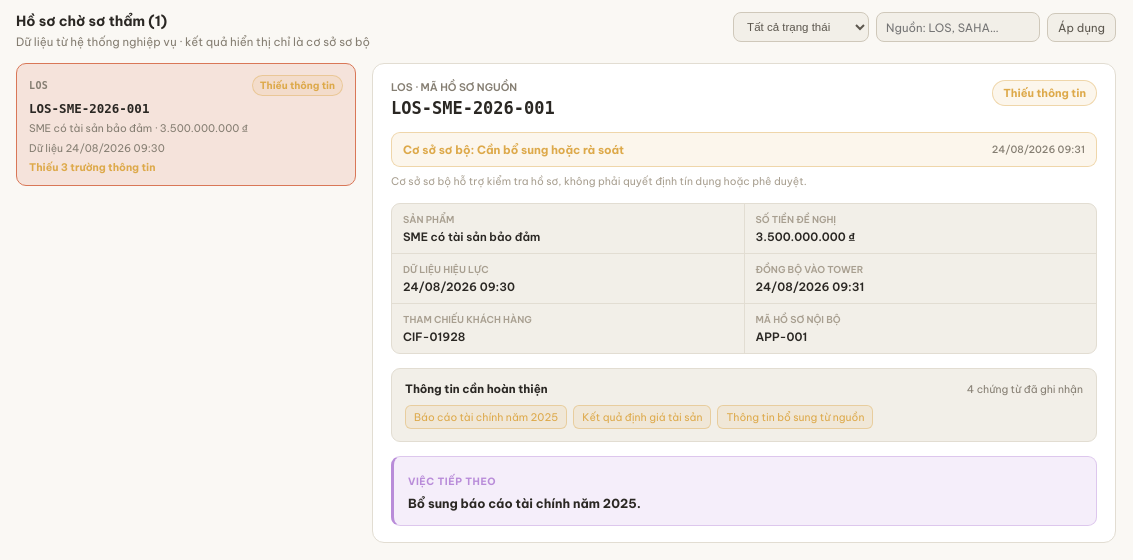
CaseWorkbench contract coverage › response cũ không ghi đè kết quả của lần tải mới hơn
Expected: the button with test id "case-row-case-missing" is shown, top-left (16, 63), bottom-right (356, 186)
Select "Thiếu thông tin" in the dropdown named "Lọc theo trạng thái hồ sơ" at (801,27), box top-left (733, 12), bottom-right (869, 42)
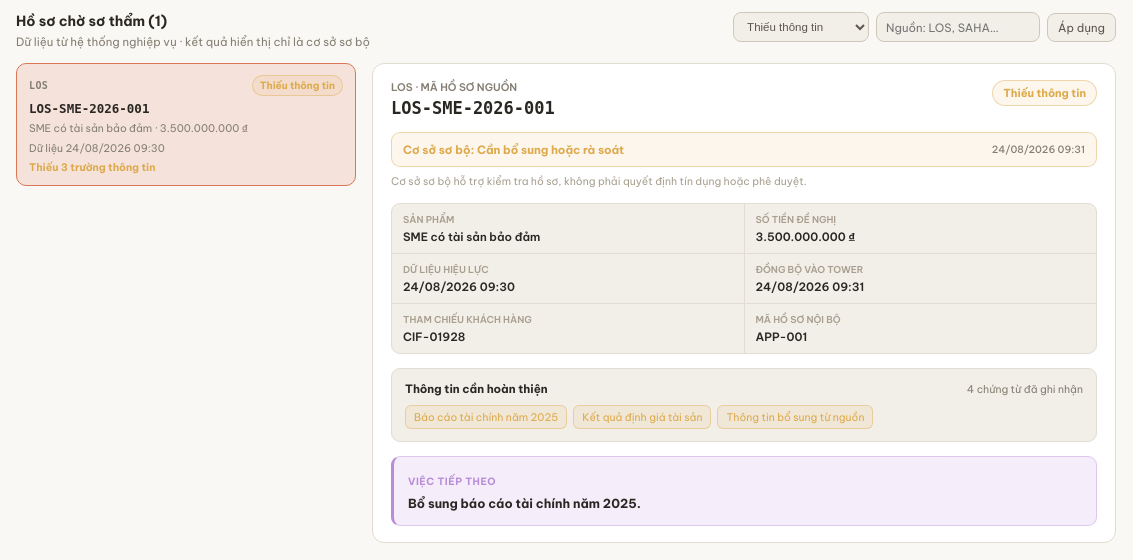
Click the button "Áp dụng".
click(1082, 27)  # box top-left (1047, 12), bottom-right (1116, 42)
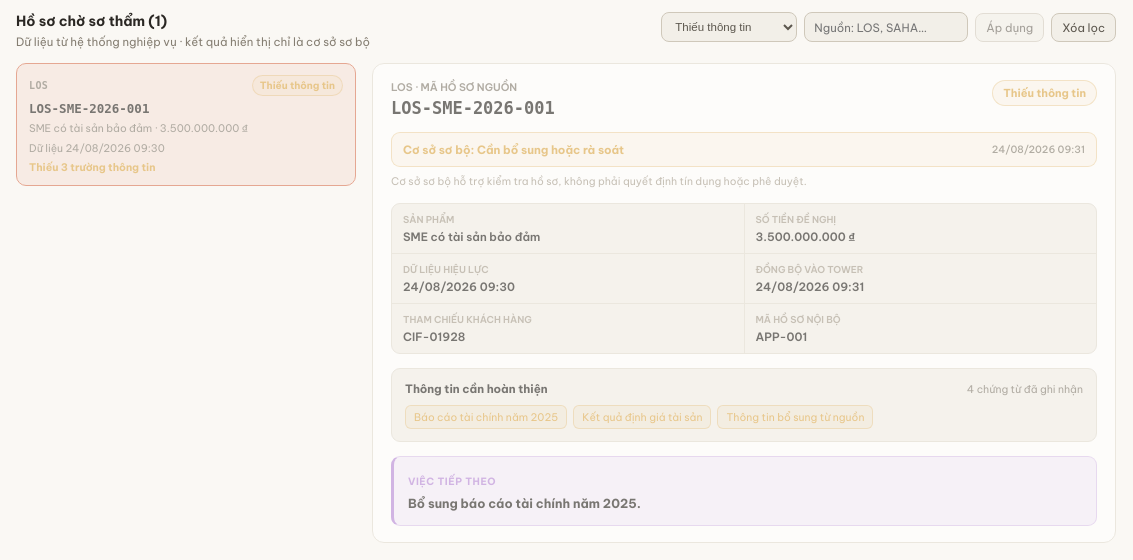
Click the button "Xóa lọc".
click(1084, 27)  # box top-left (1051, 12), bottom-right (1116, 42)
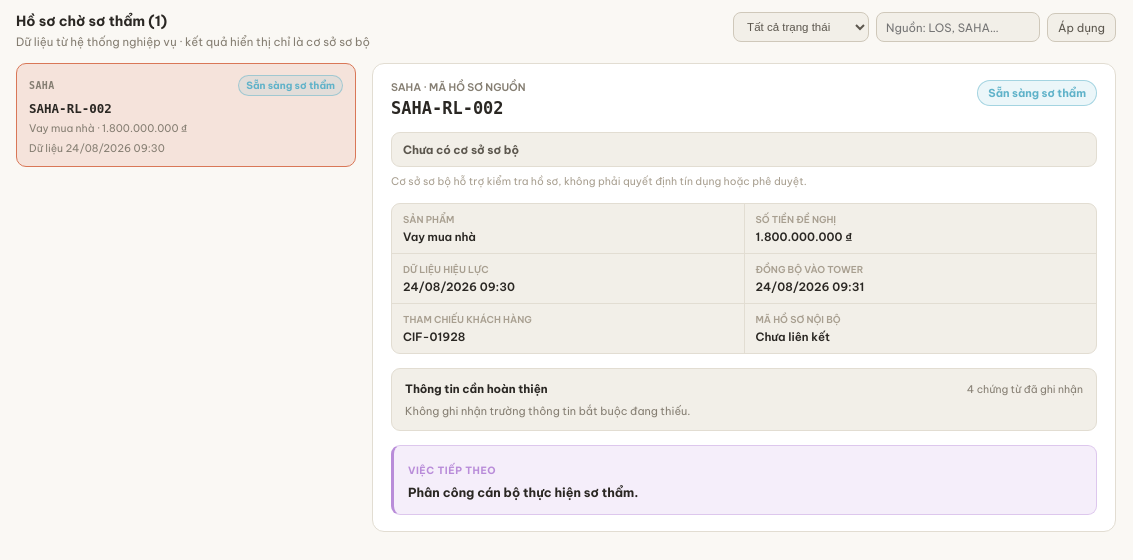
Now the button with test id "case-row-case-missing" is gone
Now the button with test id "case-row-case-ready" is shown, box top-left (16, 63), bottom-right (356, 167)
